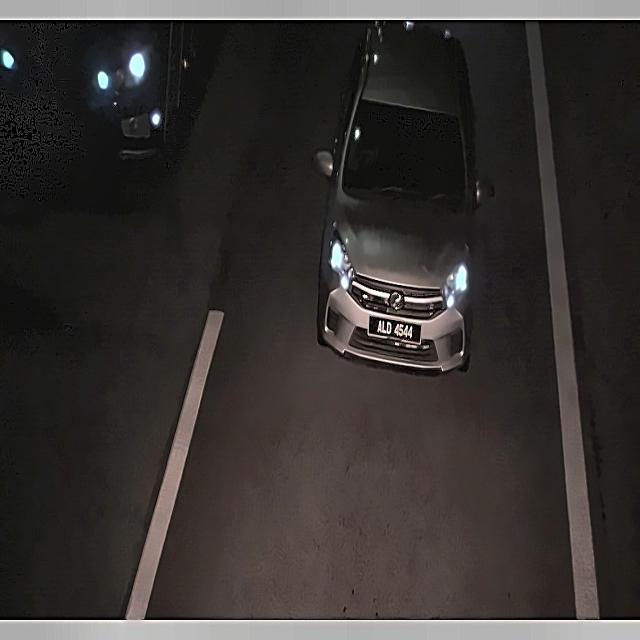car: (362, 310, 426, 351)
